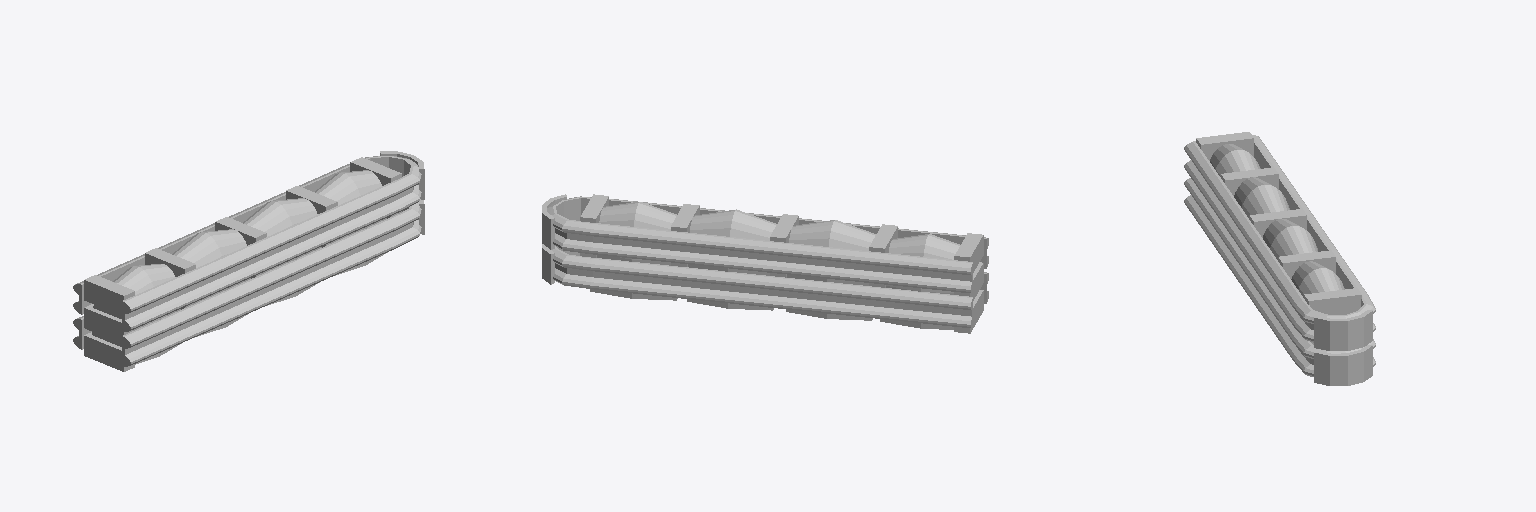
File: Road8_2_4.obj
3 views of the same model, side by side, from view 1: azimuth 30°, elevation 25°; view 2: azimuth 150°, elevation 25°; view 3: azimuth 270°, elevation 25° (orthographic).
Visible parts, largest first — view 1: GSDAtten_Static(Clone); view 2: GSDAtten_Static(Clone); view 3: GSDAtten_Static(Clone).
Part boxes in pixels (x1,y1,x2,y2): GSDAtten_Static(Clone): (73,151,424,371); GSDAtten_Static(Clone): (542,194,988,333); GSDAtten_Static(Clone): (1184,132,1375,385).
Size of the model in its own units: 3.92 by 0.8398 by 1.69.